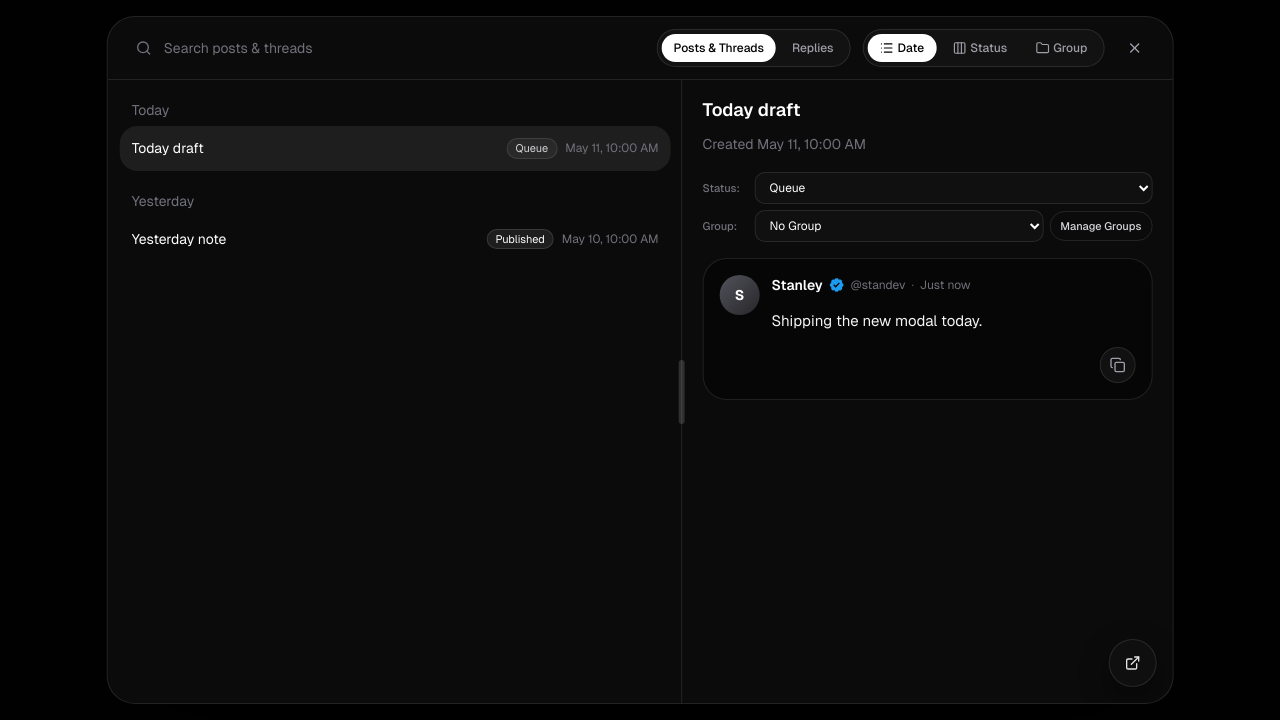
groups items by date and filters with the header search
The width and height of the screenshot is (1280, 720).
Check: the text "Today" is shown, box [132,100,169,120]
Check: the text "Yesterday" is shown, box [132,191,194,211]
In the field with placeholder "Search posts & threads": point(400, 48) [164,38,637,58], type "yesterday"
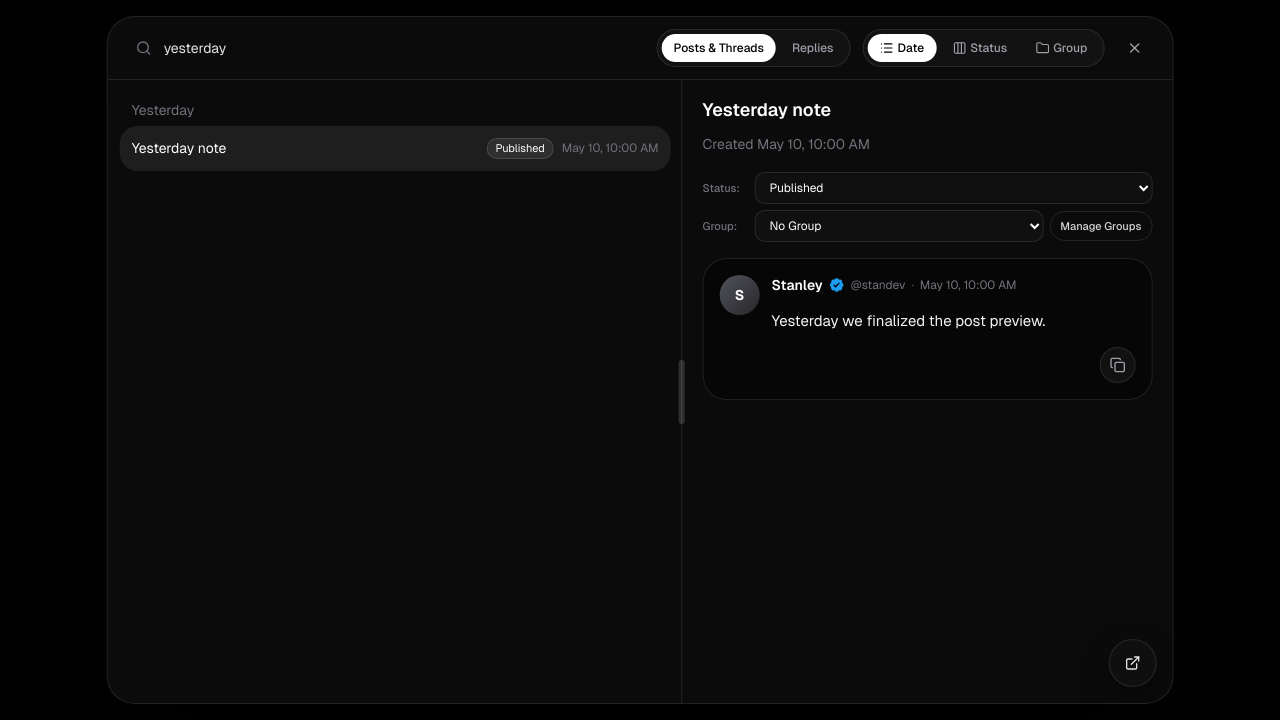
Check: the text "Yesterday note" is shown, box [132,139,226,157]
Check: the text "Today" is gone
